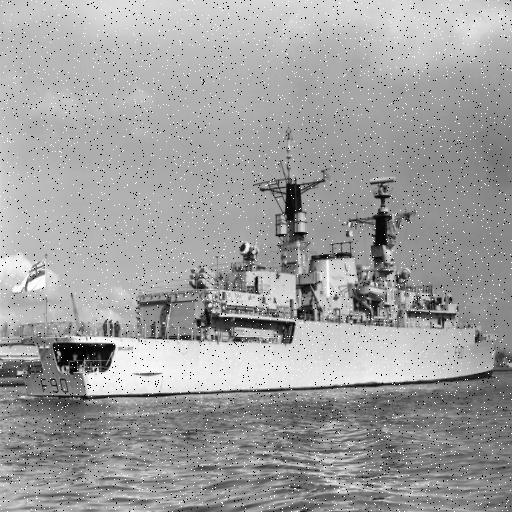Fragata: (20, 122, 504, 406)
